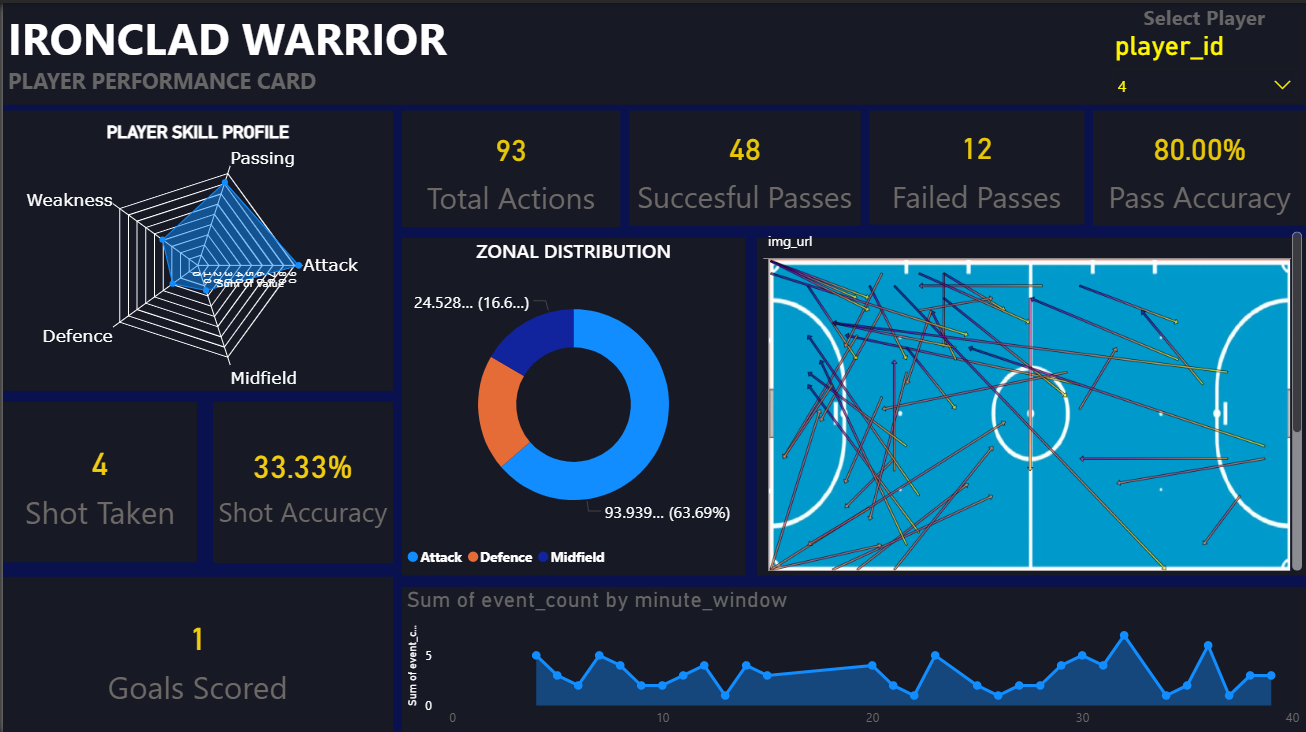

What the dashboard file says about the page in this screenshot:
{"tool":"powerbi","page":{"name":"Page 2","canvas":[1280,720],"ordinal":1},"visuals":[{"type":"shape","box":[0,0,1280,100],"z":0},{"type":"textbox","box":[0,0,586.7,161.3],"z":1000},{"type":"slicer","title":"Select Player","fields":{"Values":["public futsal_raw_data.player_id"]},"box":[1078.7,0,201.3,104],"z":2000},{"type":"card","fields":{"Values":["public futsal_raw_data.Total Actions"]},"box":[391.4,105.5,214.7,114.1],"z":3000},{"type":"card","fields":{"Values":["public futsal_raw_data.Succesful Passes"]},"box":[614.7,105.5,227,112.9],"z":4000},{"type":"card","fields":{"Values":["public futsal_raw_data.Failed Passes"]},"box":[850.3,105.5,211,111.7],"z":5000},{"type":"card","fields":{"Values":["public futsal_raw_data.Pass Accuracy"]},"box":[1069.9,105.5,209.8,112.9],"z":6000},{"type":"shape","box":[0,105.5,382.8,274.8],"z":7000},{"type":"polarB605C239BFD9BFED71A7A3BE1340EFEB","title":"PLAYER SKILL PROFILE","fields":{"col_0":["public player_radar.category"],"col_1":["Sum(public player_radar.value)"]},"box":[0,116.6,382.8,263.8],"z":8000},{"type":"shape","box":[739.9,230.7,539.9,331.3],"z":9000},{"type":"tableEx","fields":{"Values":["public player_img.img_url"]},"box":[739.9,219.6,539.9,342.3],"z":10000},{"type":"shape","box":[391.4,230.7,337.4,331.3],"z":11000},{"type":"donutChart","title":"ZONAL DISTRIBUTION","fields":{"Category":["public player_radar.category"],"Y":["Sum(public player_radar.value)"]},"box":[391.1,230.5,337.6,332.1],"z":12000},{"type":"shape","box":[391.4,573,888.3,147.2],"z":13000},{"type":"lineChart","fields":{"Category":["public player_min_eve.minute_window"],"Y":["Sum(public player_min_eve.event_count)"]},"box":[391.1,573.6,889.2,146.8],"z":14000},{"type":"shape","box":[0,391.1,190.7,157.8],"z":15000},{"type":"card","fields":{"Values":["public futsal_raw_data.Shot Taken"]},"box":[0,391.1,190.7,157.8],"z":16000},{"type":"shape","box":[206.1,391.4,176.7,158.3],"z":17000},{"type":"card","fields":{"Values":["public futsal_raw_data.Shot Accuracy"]},"box":[206.1,391.4,176.7,158.3],"z":18000},{"type":"shape","box":[0,562.6,382.8,157.8],"z":19000},{"type":"card","fields":{"Values":["public futsal_raw_data.Goals"]},"box":[0,562.6,382.8,157.8],"z":20000}]}

Visuals, with their boxes in screenshot pixels (x1, y1, x2, y2), scaled from the page's 1280x720 canvas onto the 1306x732 screenshot:
shape: rect(0, 0, 1305, 102)
textbox: rect(0, 0, 599, 164)
"Select Player" slicer: rect(1101, 0, 1305, 106)
card - public futsal_raw_data.Total Actions: rect(399, 107, 618, 223)
card - public futsal_raw_data.Succesful Passes: rect(627, 107, 859, 222)
card - public futsal_raw_data.Failed Passes: rect(868, 107, 1083, 221)
card - public futsal_raw_data.Pass Accuracy: rect(1092, 107, 1305, 222)
shape: rect(0, 107, 391, 387)
"PLAYER SKILL PROFILE" polarB605C239BFD9BFED71A7A3BE1340EFEB: rect(0, 119, 391, 387)
shape: rect(755, 235, 1305, 571)
tableEx - public player_img.img_url: rect(755, 223, 1305, 571)
shape: rect(399, 235, 744, 571)
"ZONAL DISTRIBUTION" donutChart: rect(399, 234, 744, 572)
shape: rect(399, 583, 1305, 731)
lineChart - public player_min_eve.minute_window x Sum(public player_min_eve.event_count): rect(399, 583, 1305, 731)
shape: rect(0, 398, 195, 558)
card - public futsal_raw_data.Shot Taken: rect(0, 398, 195, 558)
shape: rect(210, 398, 391, 559)
card - public futsal_raw_data.Shot Accuracy: rect(210, 398, 391, 559)
shape: rect(0, 572, 391, 731)
card - public futsal_raw_data.Goals: rect(0, 572, 391, 731)
